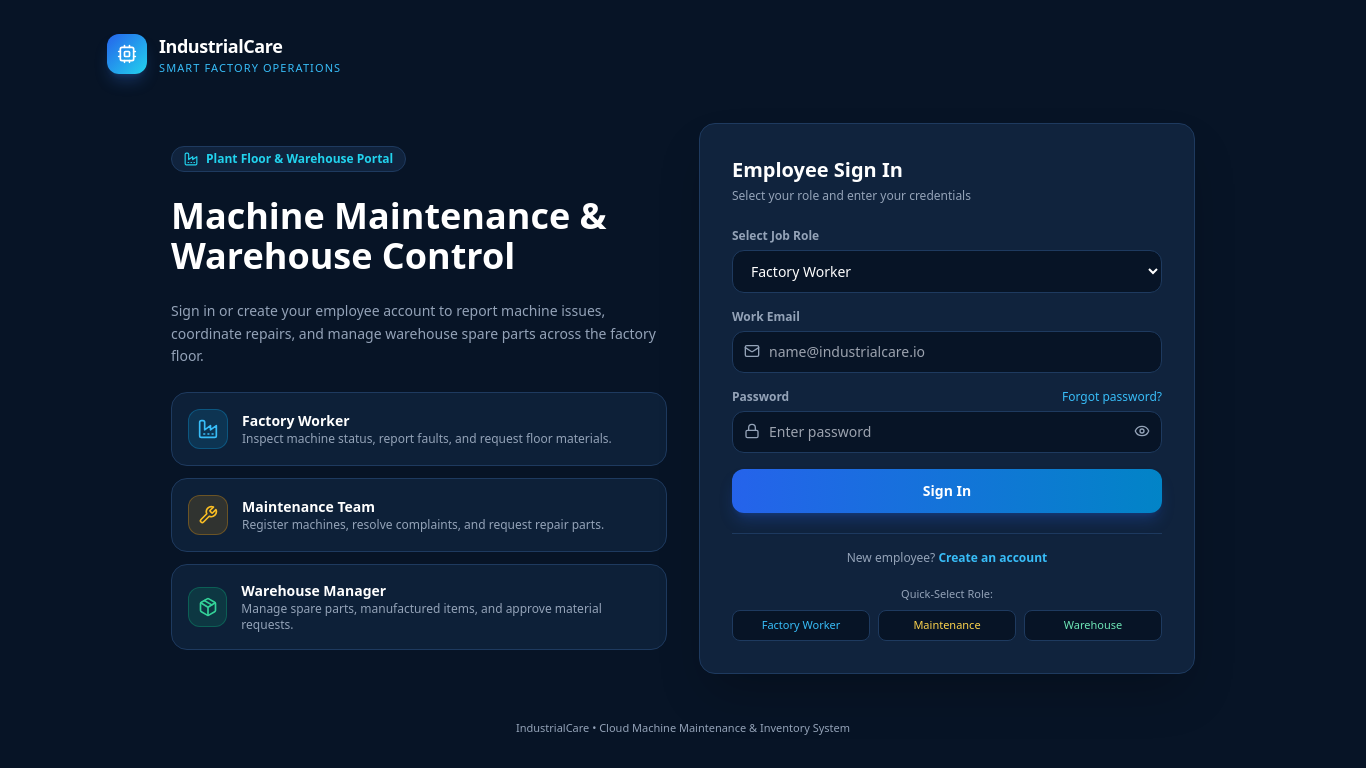
startup + authentication UI › has no sample credentials: quick-select only picks a role and leaves fields empty
Expected: the heading "Employee Sign In" is shown, [732,156,903,182]
Click the button "Maintenance". click: (947, 625)
box: [878,610,1016,640]
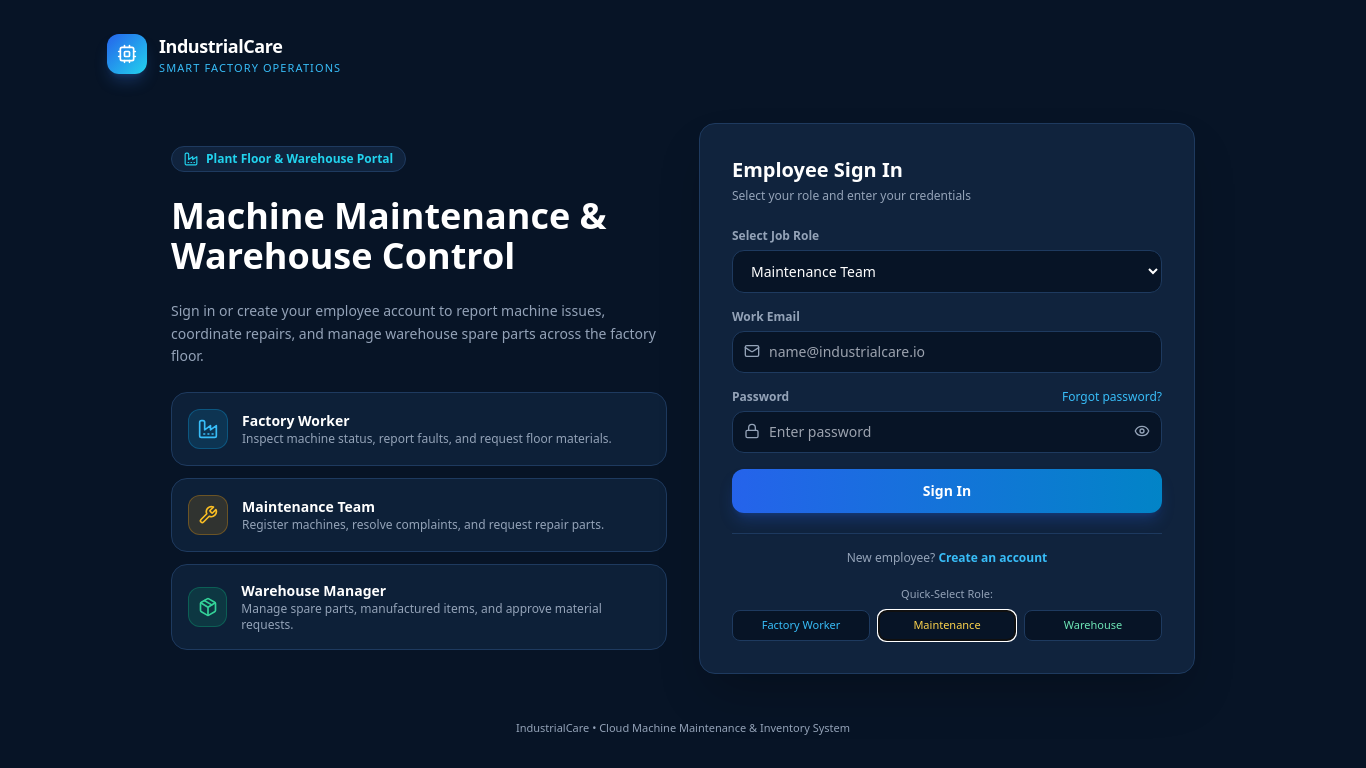
Expected: the field with placeholder "name@industrialcare.io" is empty, [732,330,1162,372]
Now the dropdown shows "Maintenance Team", box [732,250,1162,292]
